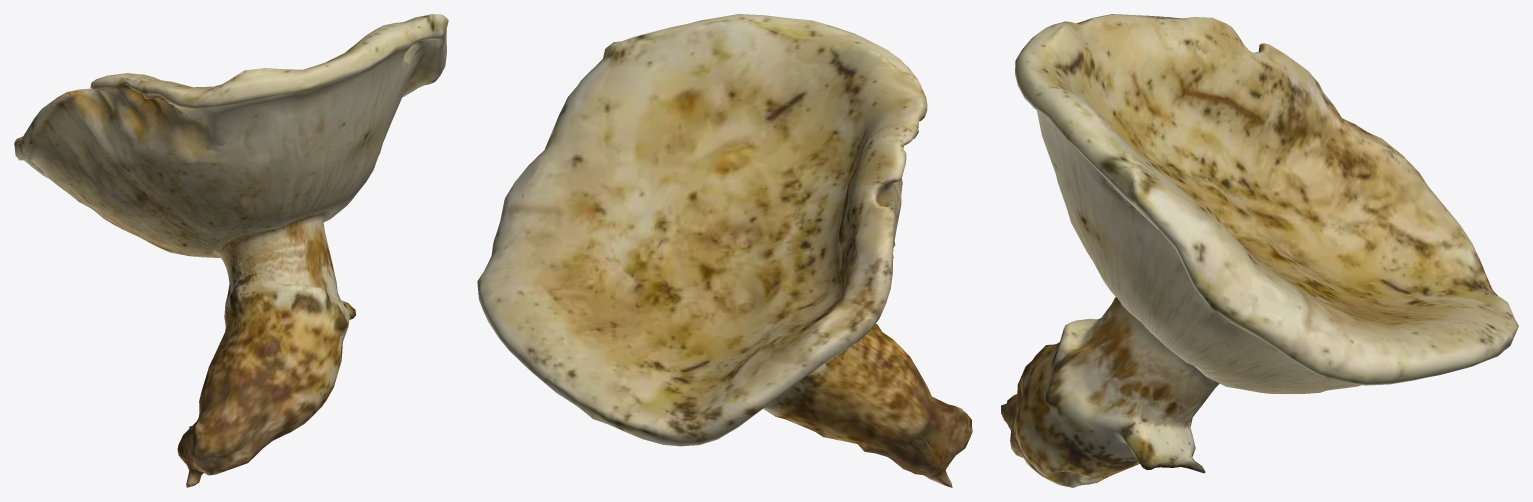
Rendered from veg_tricholoma_murrillianum_.glb.
3 renders of one model, left to right at view 1: azimuth 30°, elevation 25°; view 2: azimuth 150°, elevation 25°; view 3: azimuth 270°, elevation 25°, orthographic. The views are drawn at different scales.
Parts seen in each view (by area): view 1: Object_2; view 2: Object_2; view 3: Object_2.
Boxes of the visible parts, x1,y1,x2,y2 form: Object_2: (14, 14, 448, 487); Object_2: (477, 14, 972, 487); Object_2: (1001, 14, 1518, 487).
Size of the model in its own units: 0.0988 by 0.1 by 0.0984.
Materials: 1 (1 with a texture image).
